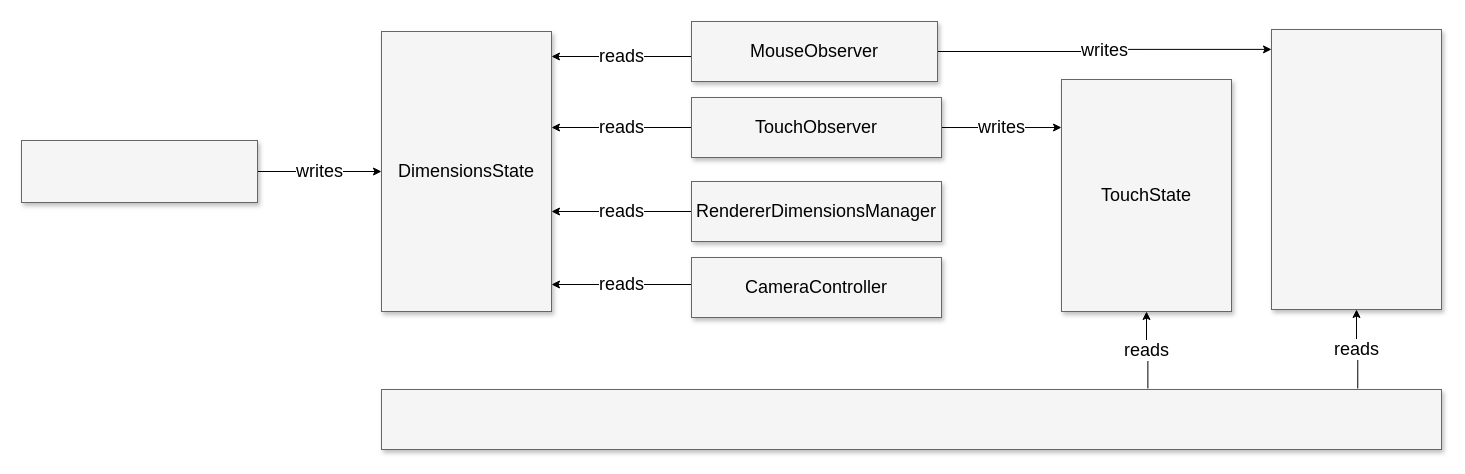
This 1465x474 diagram has some shape labels left out. The shapes that lost their labels are listed below. From the top down, each one's centre as x and y in pixels, then its label:
At [140,173]: "WindowResizeObserver".
At [1357,170]: "MouseState".
At [912,420]: "MapScene".
